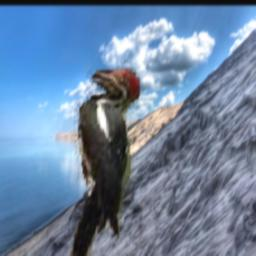Woodpecker: (68, 67, 141, 256)
